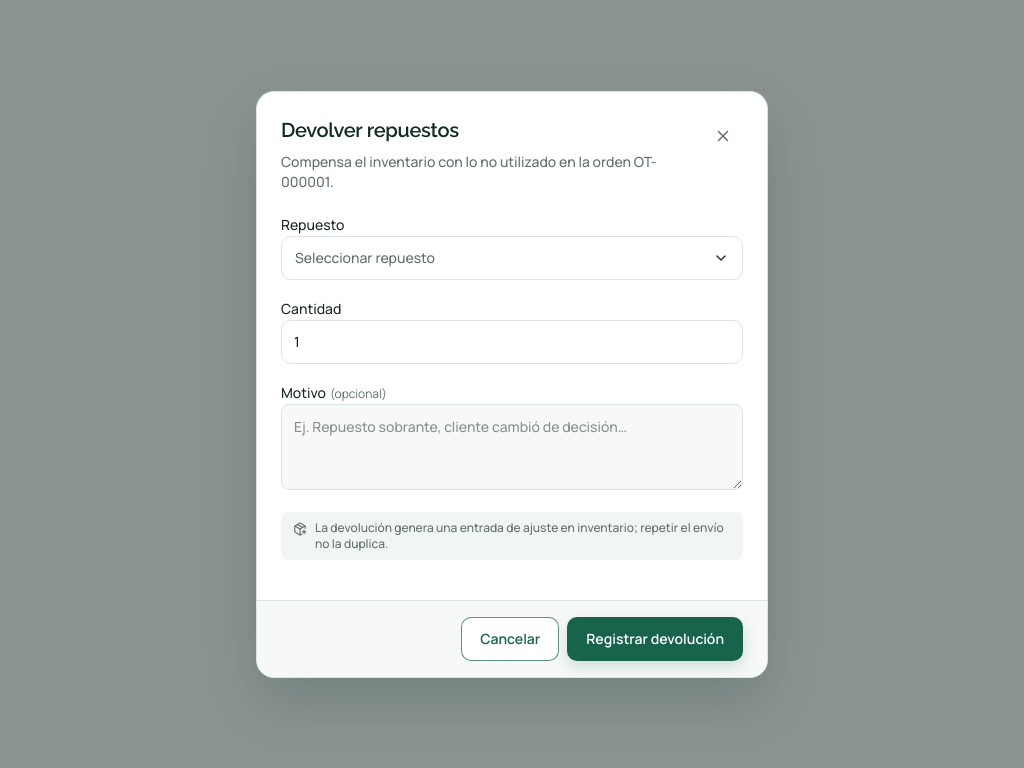
Scenario: Modal de devolución de repuestos (QA-06) › explica que solo aparecen productos consumidos que aún no se devolvieron
Click the button with aria-label "Repuesto a devolver": [365, 257] box [281,236,743,280]
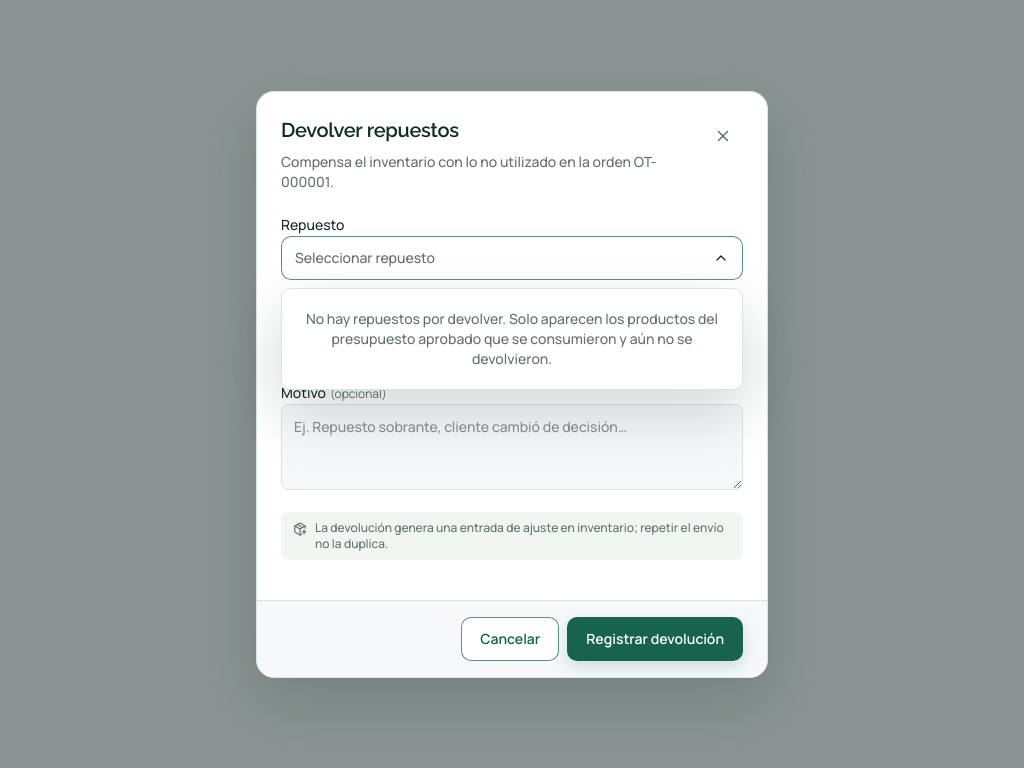
Now the list item "No hay repuestos por devolver. Solo aparecen los productos del presupuesto aprobado que se consumieron y aún no se devol" is shown, box [306,308,718,368]
